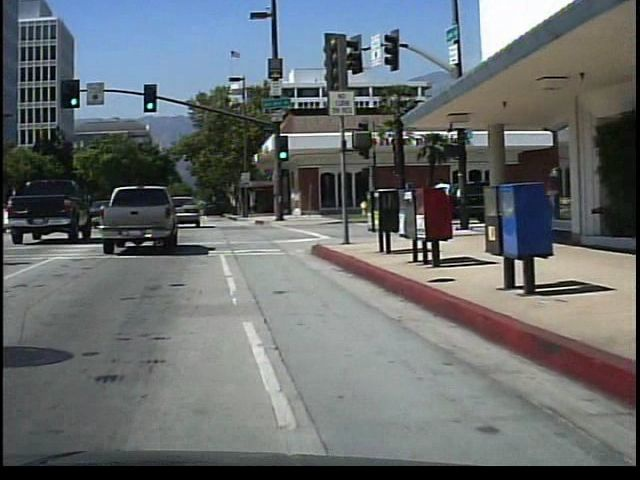person: (437, 173, 461, 238)
